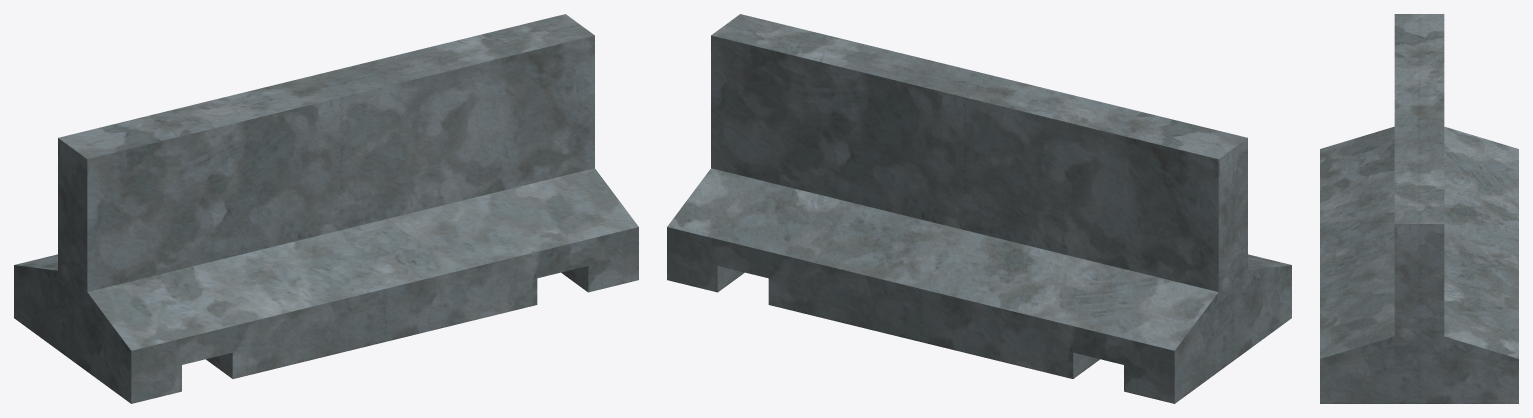
The model's file is City Block.fbx.
The picture shows the model from 3 angles, left to right: view 1: azimuth 30°, elevation 25°; view 2: azimuth 150°, elevation 25°; view 3: azimuth 270°, elevation 25°; orthographic projection. The views are drawn at different scales.
Visible parts, largest first — view 1: mergedBlocks; view 2: mergedBlocks; view 3: mergedBlocks.
Part boxes in pixels (box(x1,y1,x2,y2)): mergedBlocks: box(14, 14, 638, 403); mergedBlocks: box(667, 14, 1291, 403); mergedBlocks: box(1320, 14, 1518, 403).
Bounding box in the file's own units: 10 × 4 × 4.
Materials: 2 (2 with a texture image).
